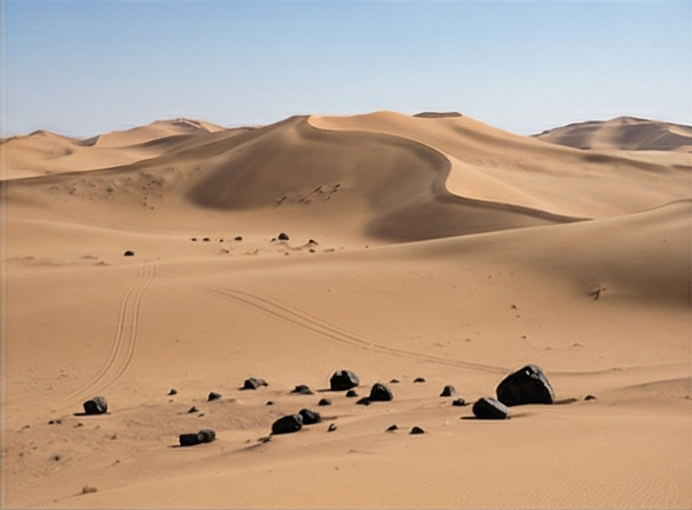rocks: (495, 363, 553, 404), (471, 395, 510, 419), (270, 411, 303, 433), (328, 368, 359, 390), (367, 381, 395, 401), (80, 394, 108, 414), (297, 407, 319, 423), (239, 376, 267, 388), (289, 384, 312, 394), (439, 384, 456, 396), (206, 390, 222, 401), (354, 395, 369, 404), (408, 426, 424, 434), (452, 396, 467, 404), (345, 388, 358, 397), (317, 396, 331, 404)
